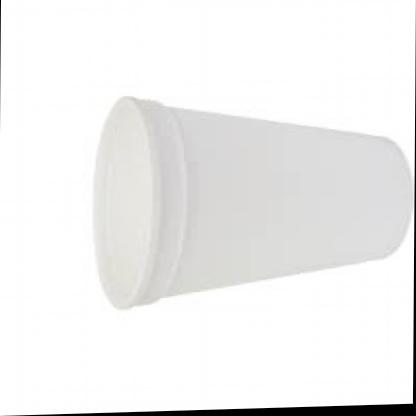trash: (94, 97, 411, 307)
